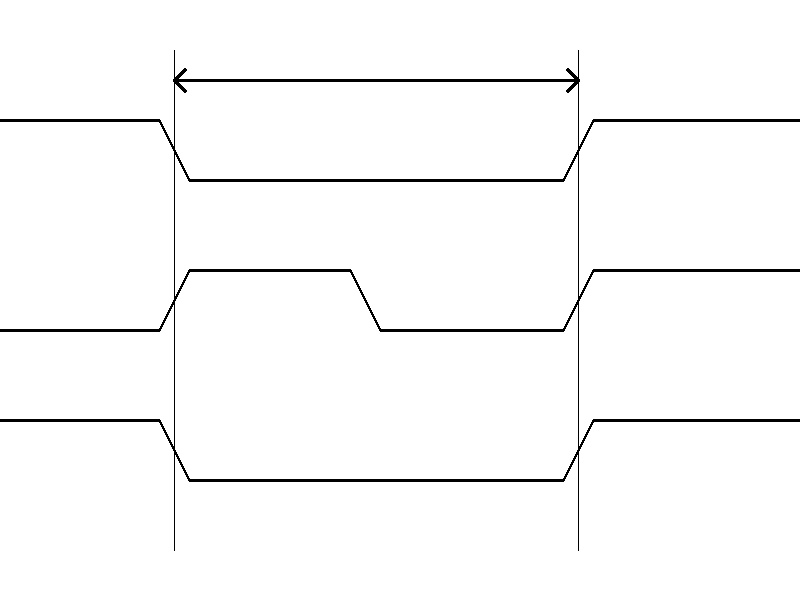double_arrow: (174, 65, 578, 95)
